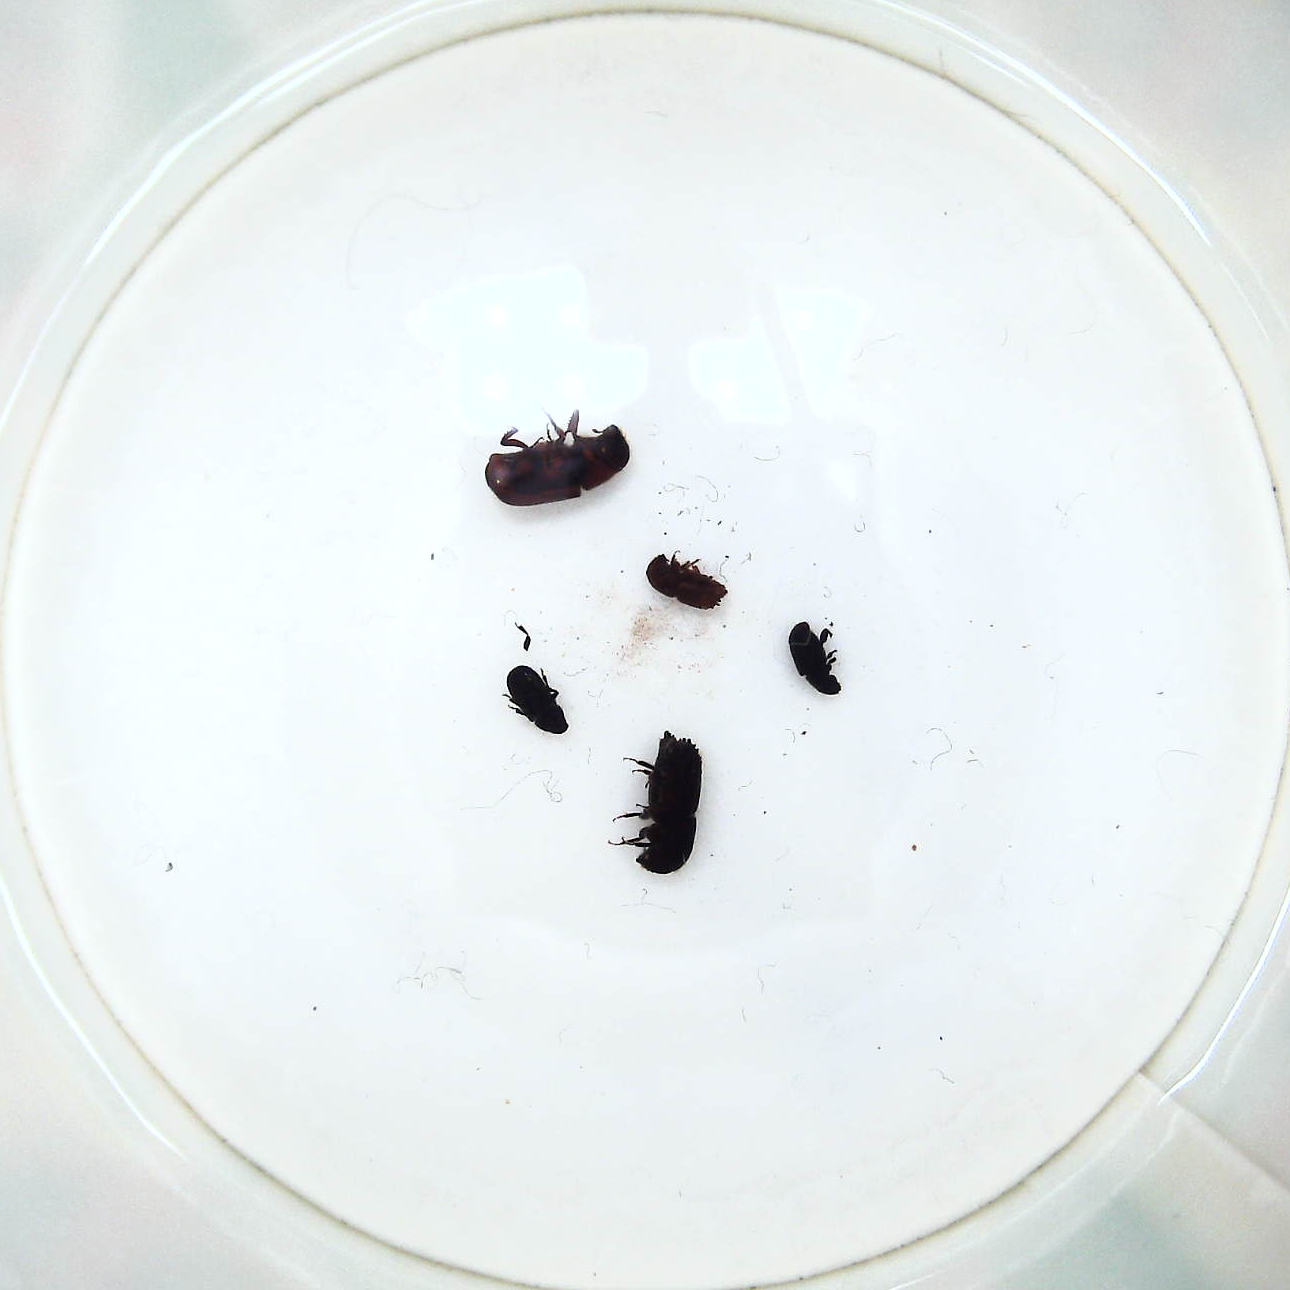Boerner: (613, 721, 710, 882)
Leconte: (484, 408, 637, 508)
armandi: (503, 660, 571, 743)
coleoptera: (786, 618, 849, 699)
linnaeus: (640, 545, 732, 618)
